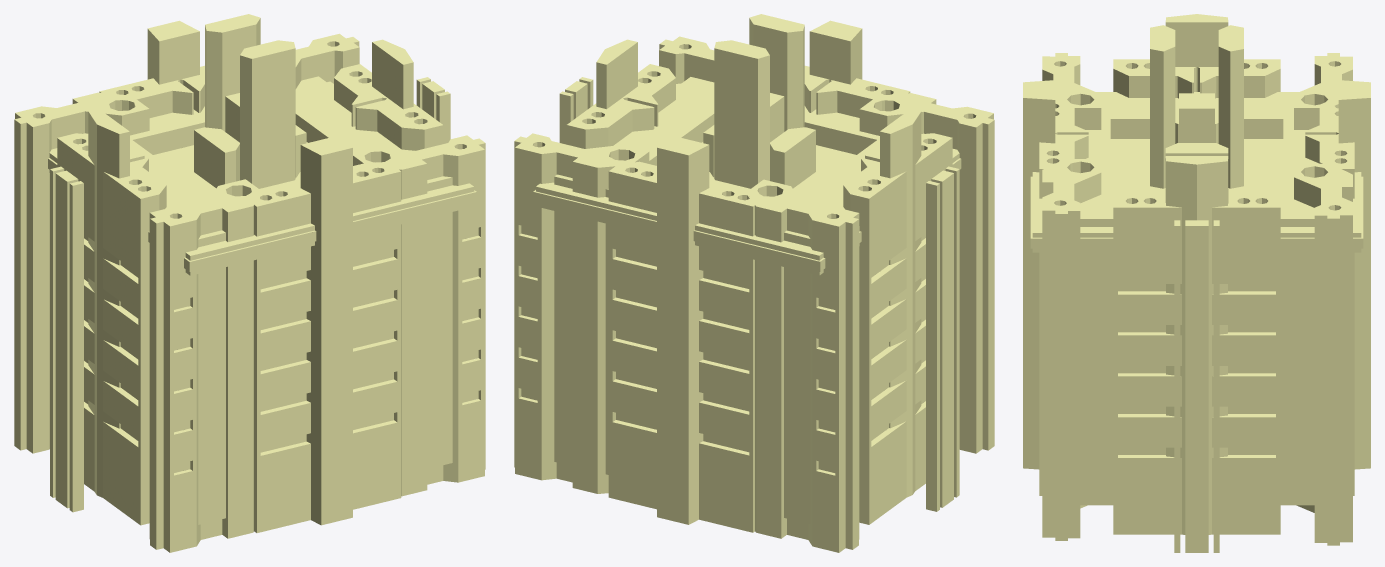
File: MangaKa Props - F_S_ScifiBuilding_55.glb
3 views of the same model, side by side, from view 1: azimuth 30°, elevation 25°; view 2: azimuth 150°, elevation 25°; view 3: azimuth 270°, elevation 25° (orthographic).
Visible parts, largest first — view 1: F_S_ScifiBuilding_55_blueScreen, F_S_ScifiBuilding_55002_blueScreen, F_S_ScifiBuilding_55003_blueScreen, F_S_ScifiBuilding_55001_blueScreen; view 2: F_S_ScifiBuilding_55_blueScreen, F_S_ScifiBuilding_55002_blueScreen, F_S_ScifiBuilding_55003_blueScreen, F_S_ScifiBuilding_55001_blueScreen; view 3: F_S_ScifiBuilding_55_blueScreen, F_S_ScifiBuilding_55003_blueScreen, F_S_ScifiBuilding_55002_blueScreen, F_S_ScifiBuilding_55001_blueScreen.
Boxes of the visible parts, bbox=[...] form: F_S_ScifiBuilding_55_blueScreen: bbox=[14, 20, 485, 552]; F_S_ScifiBuilding_55002_blueScreen: bbox=[50, 77, 478, 512]; F_S_ScifiBuilding_55003_blueScreen: bbox=[33, 14, 466, 218]; F_S_ScifiBuilding_55001_blueScreen: bbox=[48, 158, 476, 271]; F_S_ScifiBuilding_55_blueScreen: bbox=[514, 20, 994, 552]; F_S_ScifiBuilding_55002_blueScreen: bbox=[521, 77, 959, 511]; F_S_ScifiBuilding_55003_blueScreen: bbox=[533, 14, 976, 218]; F_S_ScifiBuilding_55001_blueScreen: bbox=[533, 159, 961, 271]; F_S_ScifiBuilding_55_blueScreen: bbox=[1023, 14, 1370, 545]; F_S_ScifiBuilding_55003_blueScreen: bbox=[1046, 25, 1347, 210]; F_S_ScifiBuilding_55002_blueScreen: bbox=[1118, 220, 1275, 552]; F_S_ScifiBuilding_55001_blueScreen: bbox=[1030, 238, 1363, 248].
Bounding box in the file's own units: 11.07 × 11.81 × 8.81.
